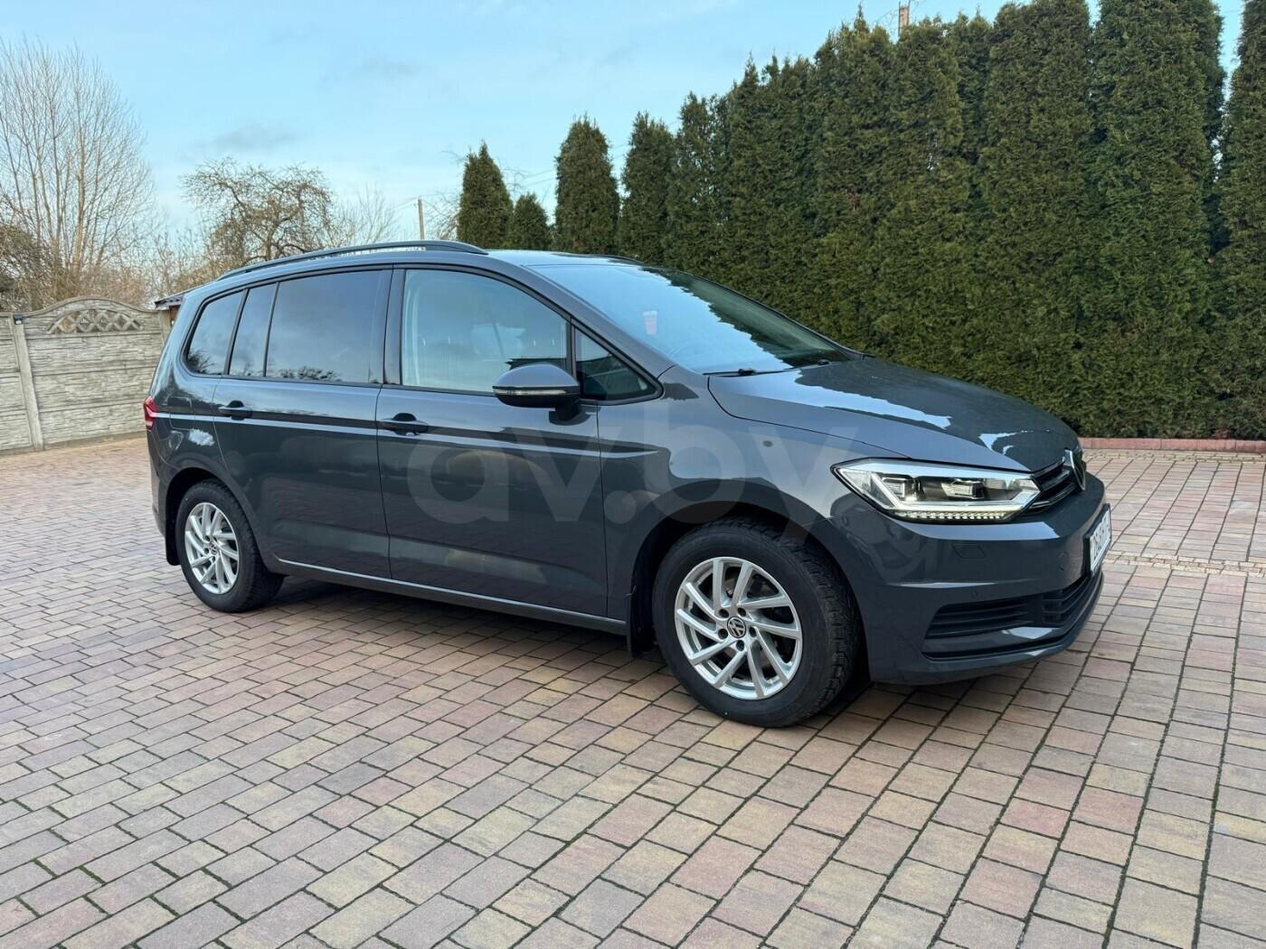Touran_2015: (141, 244, 1115, 715)
